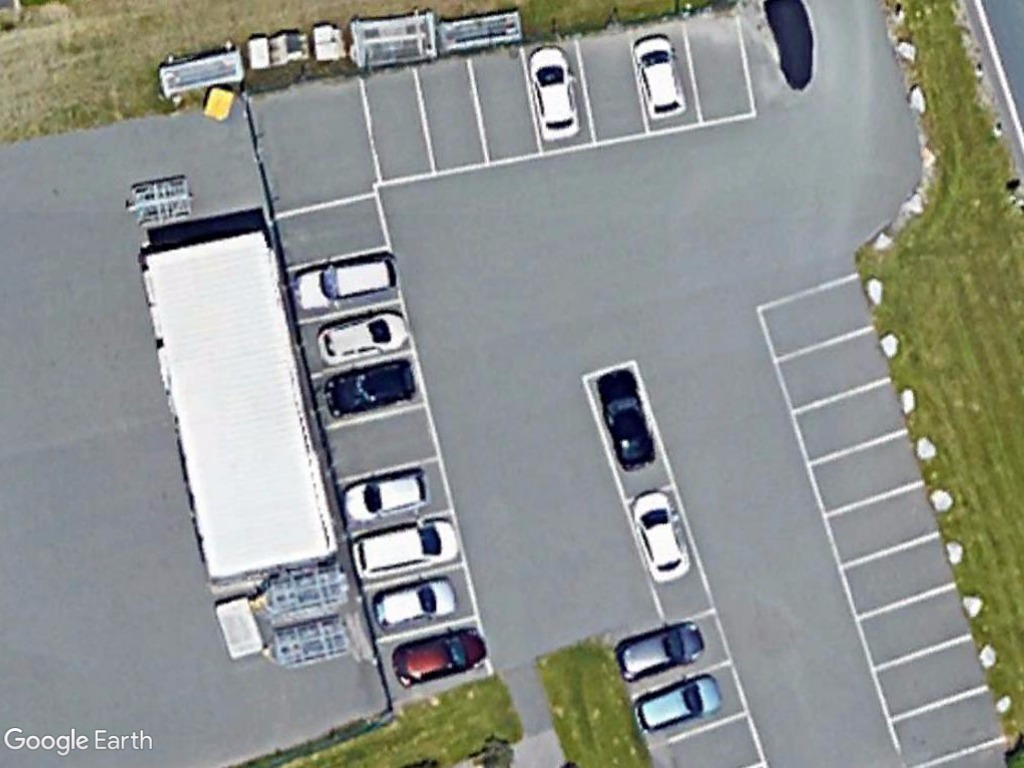car: (344, 512, 459, 585), (587, 365, 660, 473), (292, 248, 404, 318), (386, 623, 493, 693), (613, 614, 709, 687), (626, 484, 693, 588), (323, 353, 418, 426), (631, 670, 726, 740), (313, 308, 411, 370), (527, 43, 585, 146), (628, 30, 690, 124), (338, 464, 433, 525), (369, 573, 458, 635)
